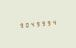four: (29, 20, 34, 28), (53, 18, 58, 26)
nine: (17, 21, 22, 29), (41, 19, 46, 27), (35, 20, 40, 27), (47, 19, 52, 26)
zero: (23, 21, 28, 28)
